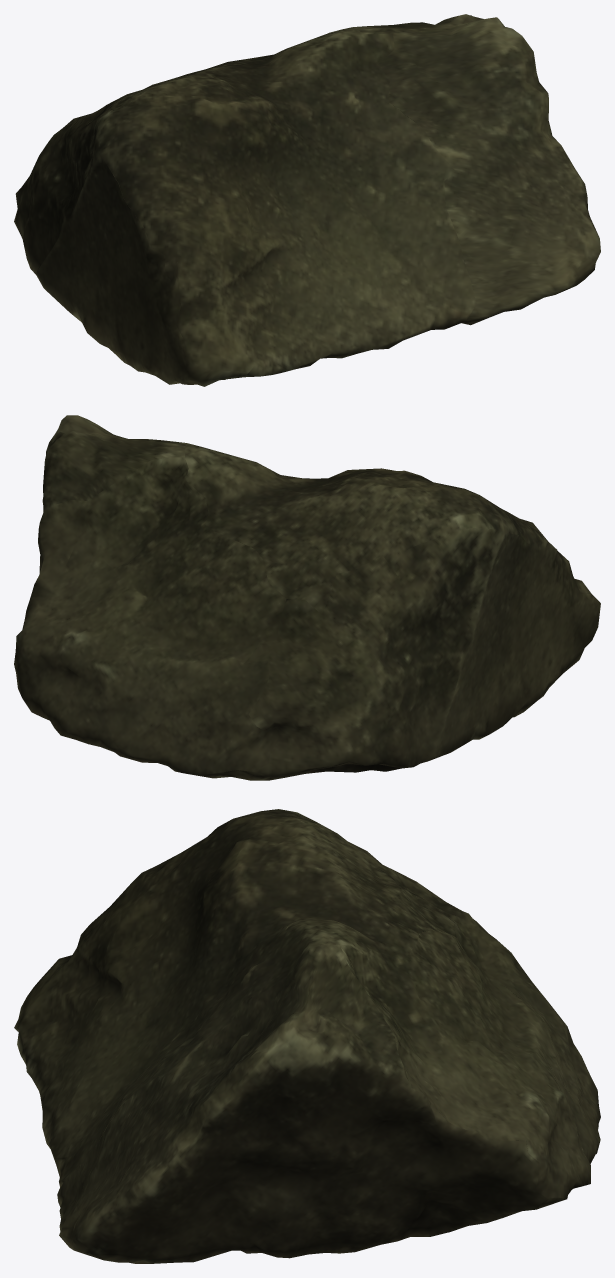
The model's file is RF3_Moss_Rock_3.fbx.
3 renders of one model, top to bottom at view 1: azimuth 30°, elevation 25°; view 2: azimuth 150°, elevation 25°; view 3: azimuth 270°, elevation 25°, orthographic. The views are drawn at different scales.
Parts seen in each view (by area): view 1: RF3_Moss_Rock_3; view 2: RF3_Moss_Rock_3; view 3: RF3_Moss_Rock_3.
Boxes of the visible parts, <box> form: RF3_Moss_Rock_3: <box>14,14,600,386</box>; RF3_Moss_Rock_3: <box>14,415,600,780</box>; RF3_Moss_Rock_3: <box>14,809,600,1263</box>.
Bounding box in the file's own units: 211 × 110 × 208.
